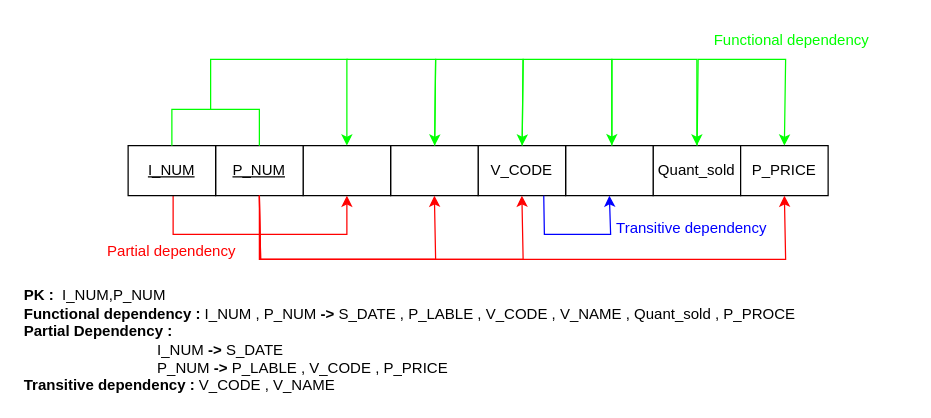
This 931x418 diagram has some shape labels left out. The shapes that lost their labels are listed below. From the top down, each one's centre as x and y in pixels, then its label:
the point at 346,170: S_DATE
the point at 433,170: P_LABLE
the point at 608,170: V_NAME
